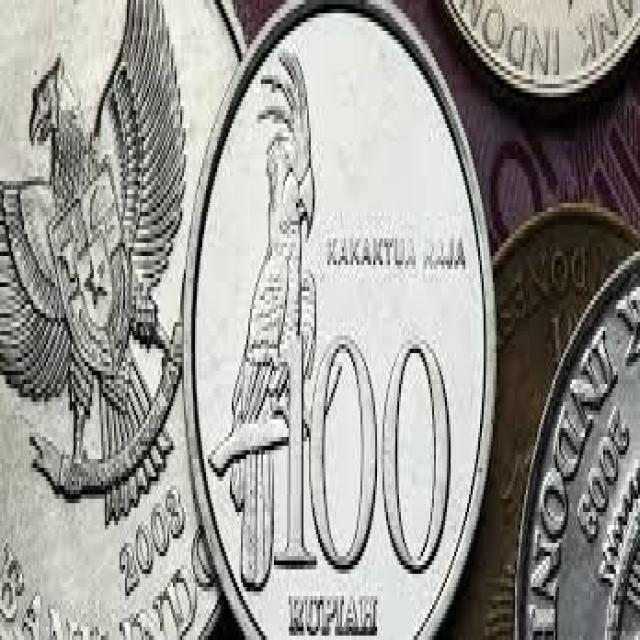coin_100_e1999: (184, 0, 494, 640)
